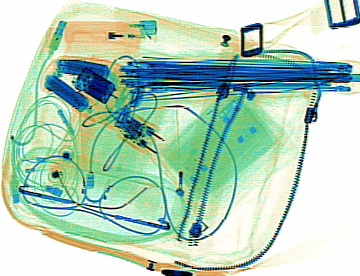lighter: (63, 19, 157, 46)
